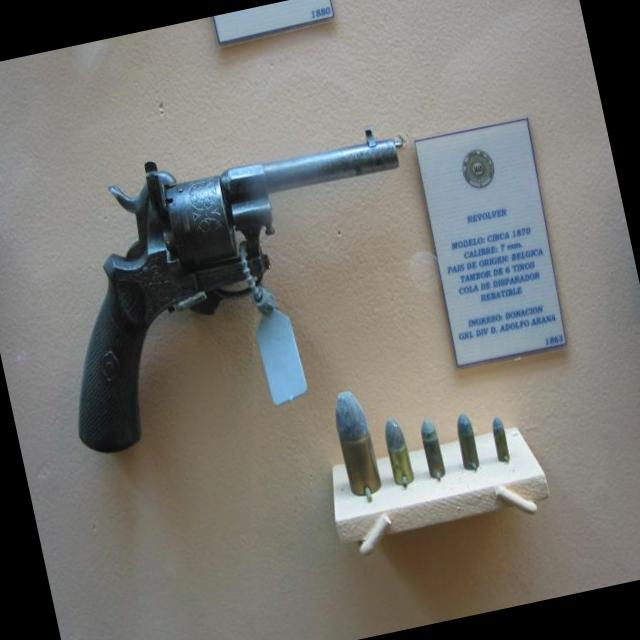Gun: (78, 134, 401, 452)
